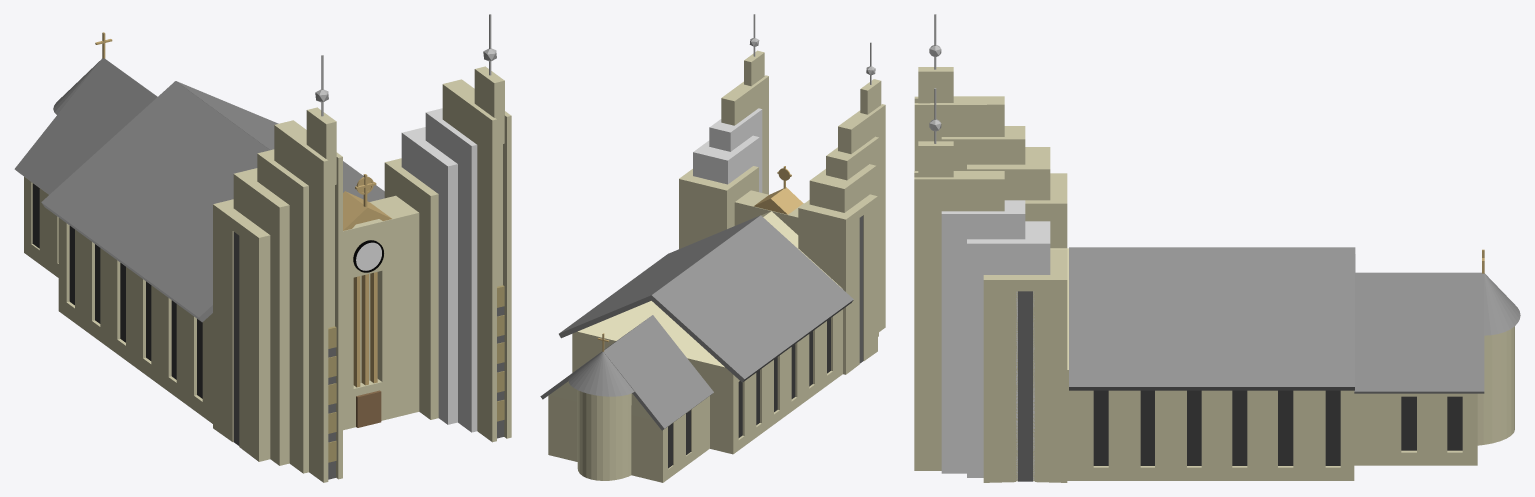
Rendered from church.fbx.
The picture shows the model from 3 angles, left to right: view 1: azimuth 30°, elevation 25°; view 2: azimuth 150°, elevation 25°; view 3: azimuth 270°, elevation 25°; orthographic projection. The views are drawn at different scales.
Parts seen in each view (by area): view 1: Cube.033, Cube, Cube.011, Cube.004, Cube.014, Cube.036, Cube.012, Cube.002, Cube.003, Cube.013, Cube.001, Plane.001 (+11 smaller); view 2: Cube.033, Cube, Cube.011, Cube.034, Cube.036, Cylinder.002, Cube.001, Cube.032, Cube.014, Cube.002, Cube.012, Cube.004 (+9 smaller); view 3: Cube.032, Cube, Cube.035, Cube.001, Cube.004, Cube.003, Cube.034, Plane, Cube.002, Cylinder.002, Cube.014, Plane.005 (+7 smaller).
Part boxes in pixels (left/top/right/bottom): Cube.033: left=41, top=81, right=269, bottom=322; Cube: left=58, top=195, right=419, bottom=430; Cube.011: left=213, top=199, right=270, bottom=461; Cube.004: left=442, top=79, right=511, bottom=442; Cube.014: left=274, top=120, right=342, bottom=482; Cube.036: left=14, top=58, right=156, bottom=194; Cube.012: left=233, top=168, right=289, bottom=465; Cube.002: left=401, top=127, right=457, bottom=424; Cube.003: left=425, top=108, right=477, bottom=432; Cube.013: left=257, top=149, right=308, bottom=473; Cube.001: left=384, top=158, right=438, bottom=419; Plane.001: left=69, top=226, right=202, bottom=398; Cube.033: left=649, top=215, right=853, bottom=382; Cube: left=572, top=190, right=842, bottom=454; Cube.011: left=798, top=194, right=877, bottom=374; Cube.034: left=548, top=381, right=709, bottom=482; Cube.036: left=603, top=315, right=713, bottom=430; Cylinder.002: left=577, top=390, right=631, bottom=480; Cube.001: left=679, top=166, right=758, bottom=248; Cube.032: left=559, top=215, right=760, bottom=338; Cube.014: left=838, top=104, right=885, bottom=331; Cube.002: left=693, top=135, right=759, bottom=192; Cube.012: left=809, top=164, right=876, bottom=212; Cube.004: left=721, top=75, right=768, bottom=194; Cube.032: left=1069, top=247, right=1354, bottom=390; Cube: left=1050, top=248, right=1354, bottom=480; Cube.035: left=1354, top=272, right=1484, bottom=393; Cube.001: left=983, top=249, right=1067, bottom=482; Cube.004: left=914, top=171, right=1004, bottom=470; Cube.003: left=941, top=200, right=1025, bottom=473; Cube.034: left=1354, top=393, right=1477, bottom=465; Plane: left=1093, top=390, right=1340, bottom=465; Cube.002: left=967, top=221, right=1050, bottom=477; Cylinder.002: left=1477, top=326, right=1514, bottom=445; Cube.014: left=914, top=96, right=1004, bottom=170; Plane.005: left=1018, top=291, right=1032, bottom=481.
Size of the model in its own units: 1828 by 2713 by 3940.
